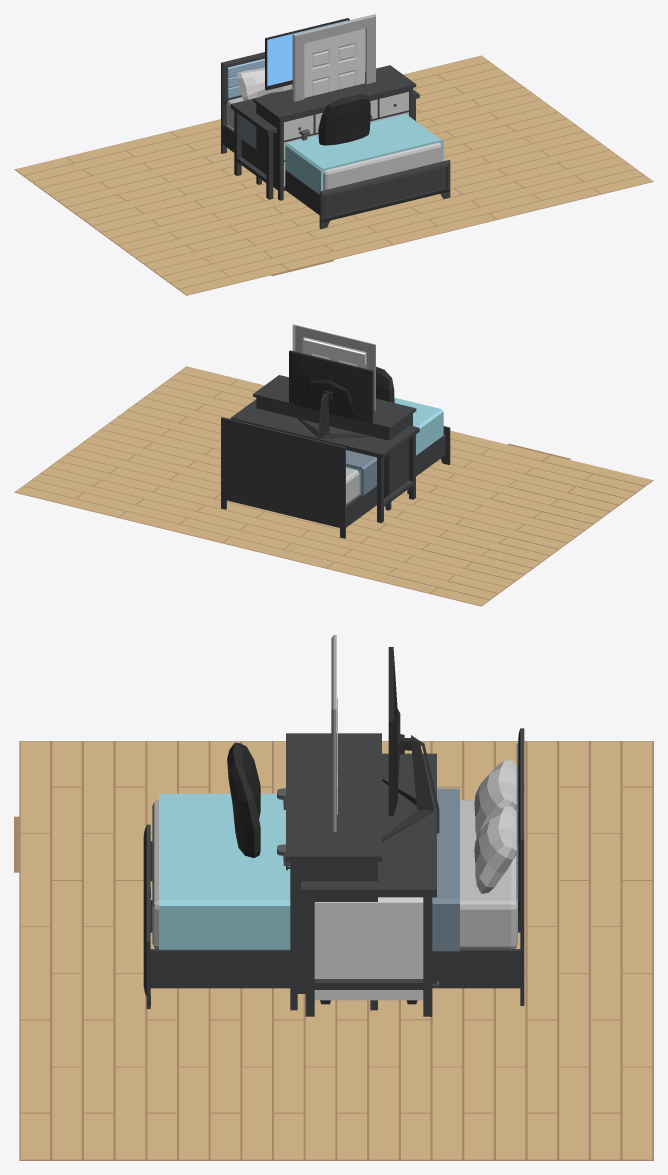
Rendered from bedroom-library.glb.
3 views of the same model, one above another, from view 1: azimuth 30°, elevation 25°; view 2: azimuth 150°, elevation 25°; view 3: azimuth 270°, elevation 25° (orthographic). The views are drawn at different scales.
Parts seen in each view (by area): view 1: Floorboards, Cube001_1, Cube004, Cube001_3, DoorLeaf, Cube001_2, DoorFrame, Cube002, Desk, Cube004_1, Cube005_1, Cube001 (+2 smaller); view 2: Floorboards, Cube001_1, Cube005, Cube004, Desk, DoorFrame, Cube001_3, DoorLeaf, Cube001_4, Cube002, Cube001_2; view 3: Floorboards, Cube001_3, Cube004, Cube001_1, Desk, Cube003, Cube001_2, Cube001, Cube001_4, Cube005, Cube002, DoorFrame.
Part boxes in pixels (x1,y1,x2,y2): Floorboards: [14, 55, 653, 295]; Cube001_1: [221, 52, 450, 229]; Cube004: [253, 65, 416, 200]; Cube001_3: [285, 114, 443, 193]; DoorLeaf: [304, 29, 364, 97]; Cube001_2: [227, 85, 441, 190]; DoorFrame: [292, 14, 375, 101]; Cube002: [318, 94, 370, 145]; Desk: [230, 89, 419, 199]; Cube004_1: [283, 92, 408, 186]; Cube005_1: [267, 20, 347, 85]; Cube001: [237, 67, 292, 100]; Floorboards: [14, 366, 653, 606]; Cube001_1: [221, 417, 450, 538]; Cube005: [289, 350, 373, 438]; Cube004: [253, 375, 416, 510]; Desk: [230, 399, 419, 523]; DoorFrame: [292, 324, 375, 411]; Cube001_3: [346, 397, 443, 495]; DoorLeaf: [302, 339, 364, 368]; Cube001_4: [346, 450, 376, 495]; Cube002: [365, 365, 394, 402]; Cube001_2: [346, 467, 359, 505]; Floorboards: [14, 741, 653, 1160]; Cube001_3: [159, 793, 290, 949]; Cube004: [286, 733, 381, 1010]; Cube001_1: [143, 728, 524, 1008]; Desk: [301, 753, 436, 1016]; Cube003: [314, 897, 423, 1000]; Cube001_2: [152, 800, 517, 948]; Cube001: [154, 760, 516, 948]; Cube001_4: [432, 788, 459, 951]; Cube005: [382, 647, 433, 841]; Cube002: [227, 742, 260, 857]; DoorFrame: [331, 635, 336, 831].
Bounding box in the file's own units: 693 × 215 × 446.
